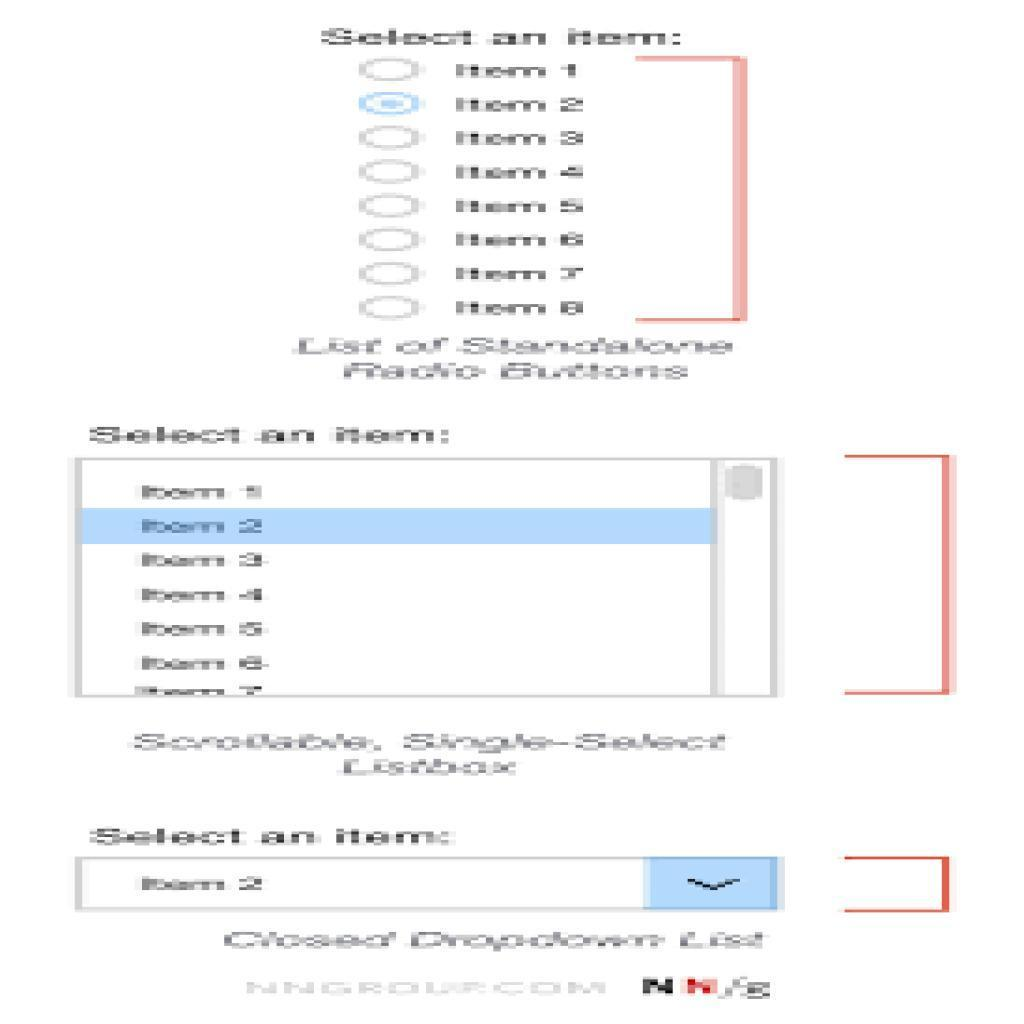dropdown: (87, 858, 766, 912)
radio: (353, 190, 436, 225), (356, 121, 431, 156), (351, 294, 436, 323), (355, 227, 432, 258), (350, 56, 437, 83), (360, 261, 432, 292), (348, 92, 434, 116), (359, 161, 427, 189)
